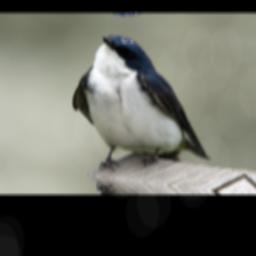Swallow: (61, 29, 227, 185)
